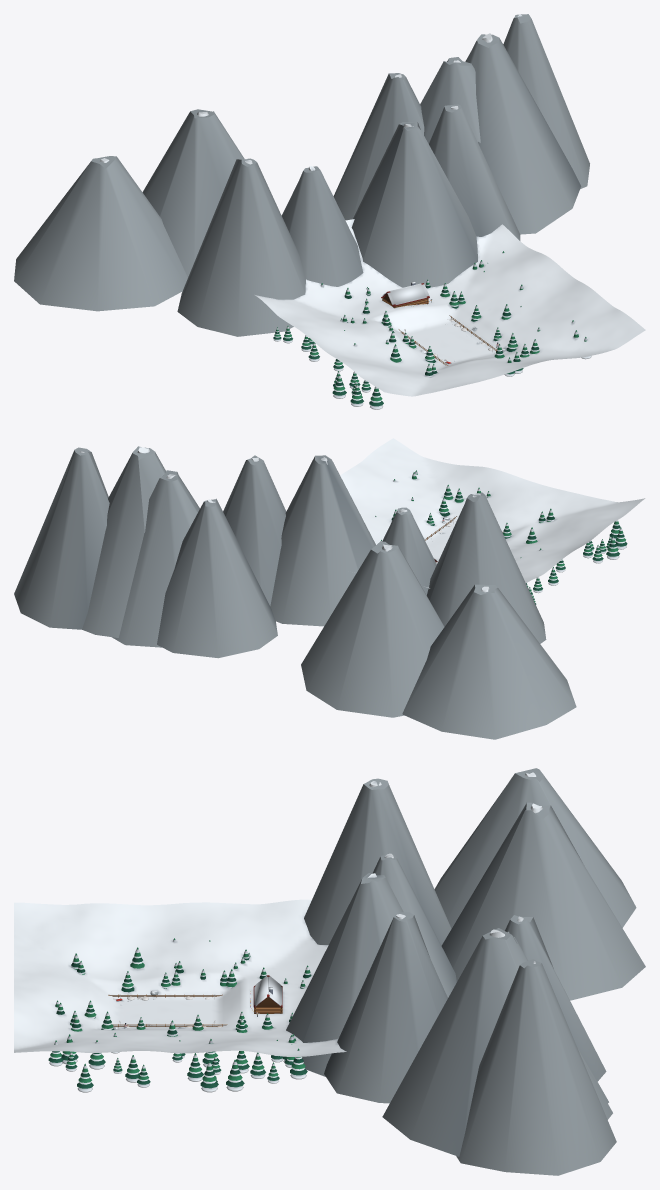
Rendered from map_cabin.glb.
3 views of the same model, one above another, from view 1: azimuth 30°, elevation 25°; view 2: azimuth 150°, elevation 25°; view 3: azimuth 270°, elevation 25° (orthographic). The views are drawn at different scales.
Visible parts, largest first — view 1: env; view 2: env; view 3: env.
Boxes of the visible parts, <box> form: env: <box>14,14,645,409</box>; env: <box>14,438,645,739</box>; env: <box>14,768,645,1175</box>.
Size of the model in its own units: 170 by 47.88 by 144.
Materials: 2 (2 with a texture image).
